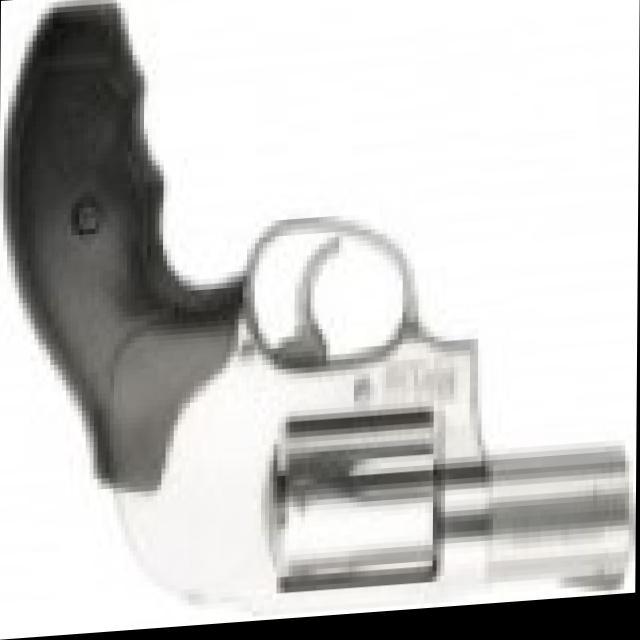handgun: (0, 0, 628, 640)
